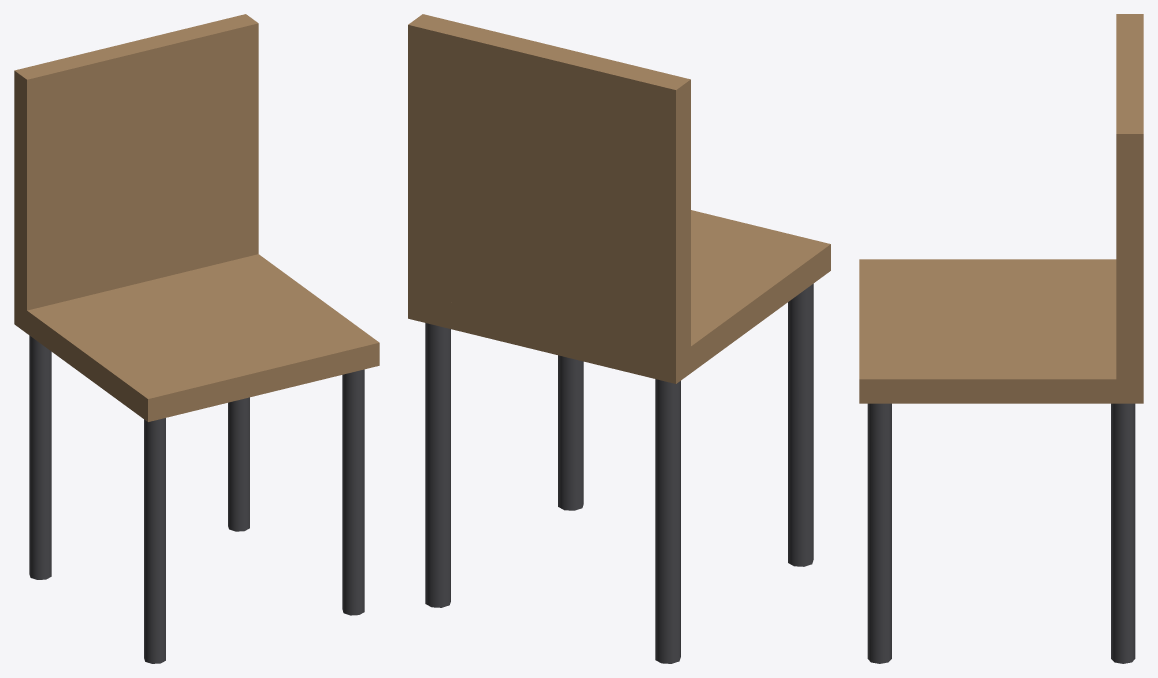
Rendered from CafeChair.glb.
The picture shows the model from 3 angles, left to right: view 1: azimuth 30°, elevation 25°; view 2: azimuth 150°, elevation 25°; view 3: azimuth 270°, elevation 25°; orthographic projection. The views are drawn at different scales.
Visible parts, largest first — view 1: CafeChair; view 2: CafeChair; view 3: CafeChair.
Part boxes in pixels (bbox=[...]): CafeChair: bbox=[14, 14, 379, 663]; CafeChair: bbox=[408, 14, 830, 663]; CafeChair: bbox=[859, 14, 1143, 663].
Bounding box in the file's own units: 0.42 × 0.87 × 0.42.
